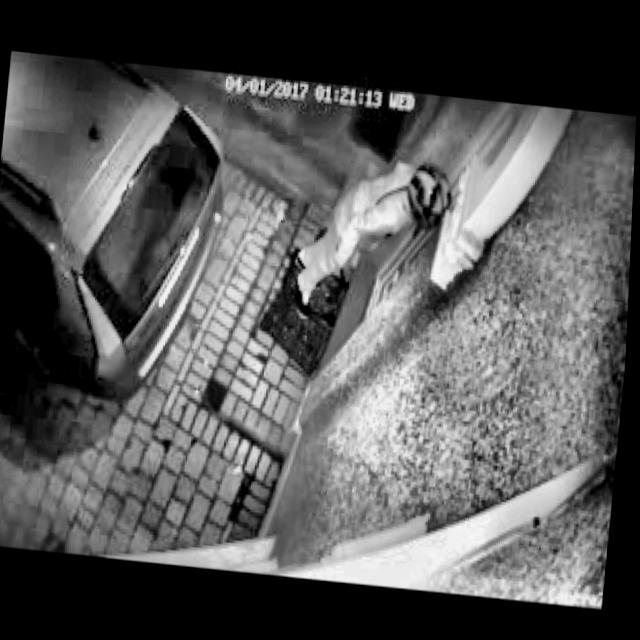burglary: (279, 127, 487, 348)
